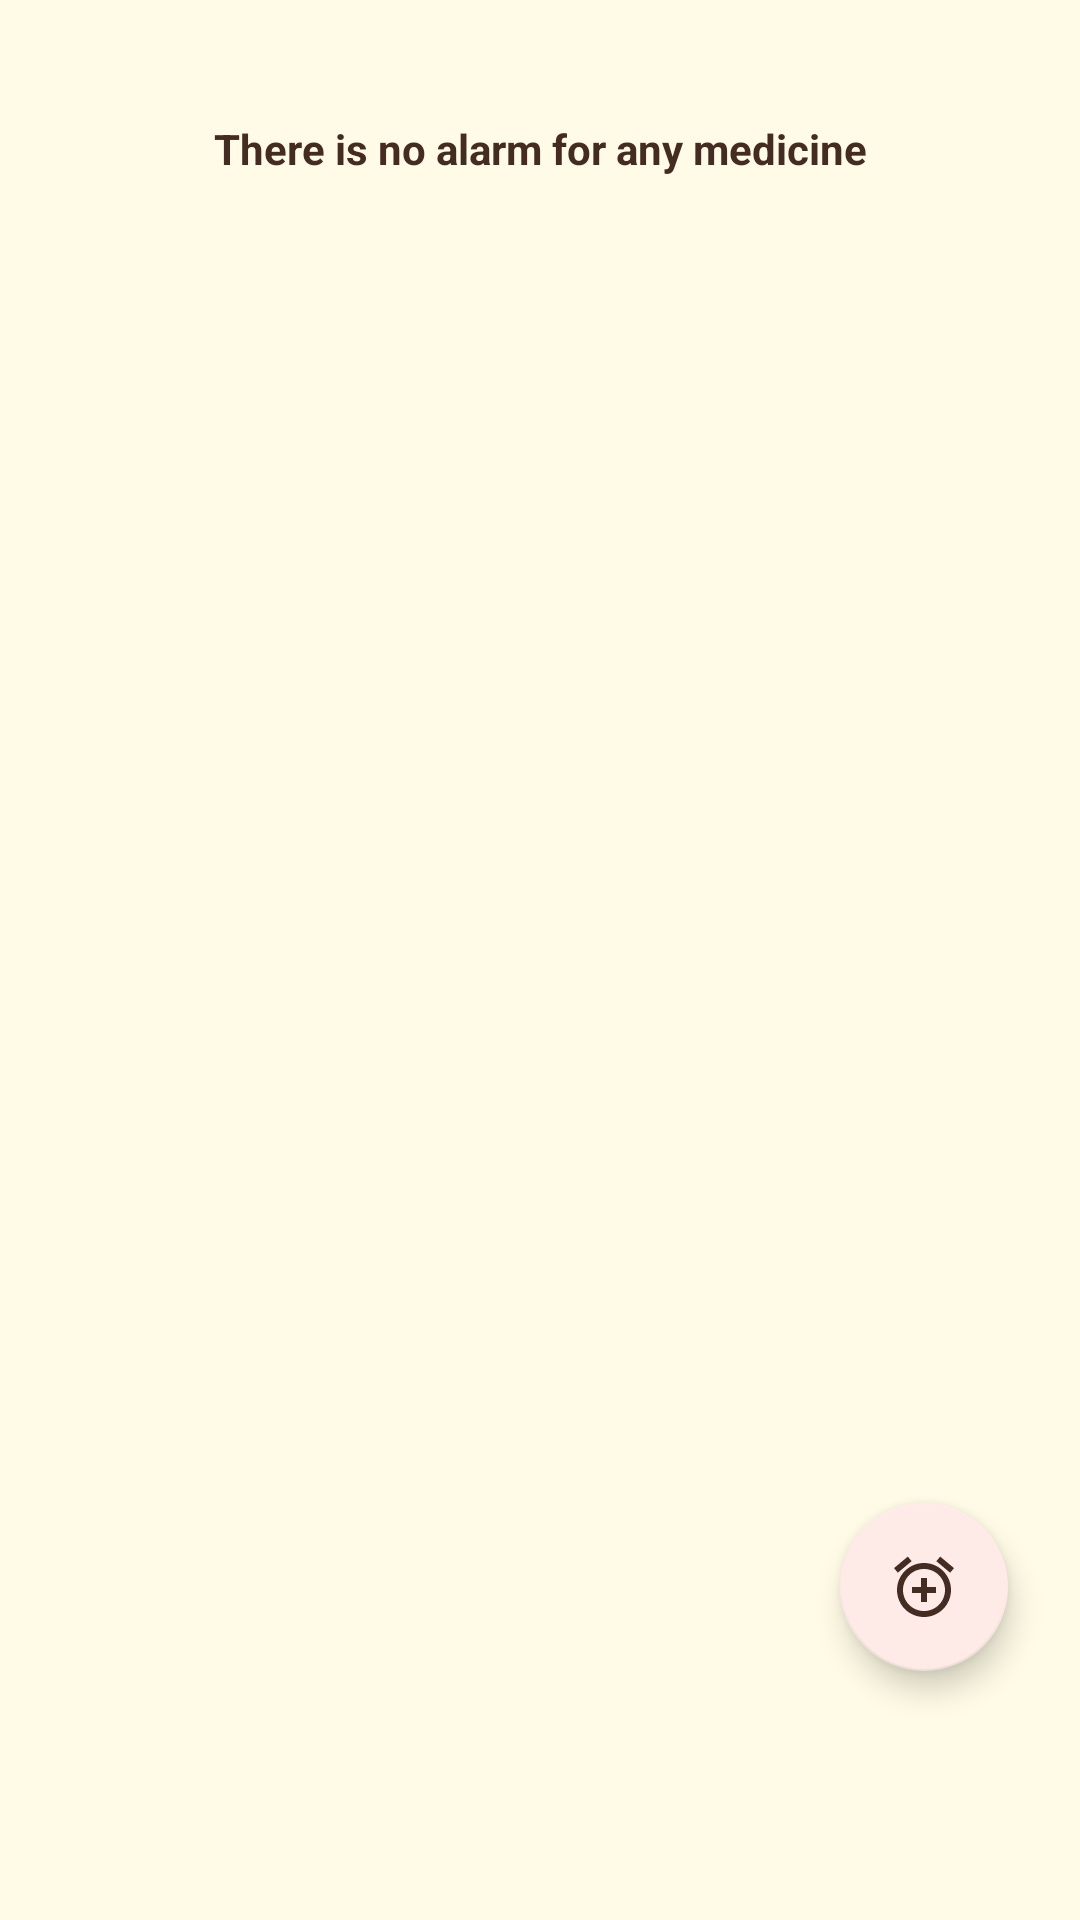

Where to tap for icons on this 1080×1920 app screen, as (x,y):
Add alarm for medicine: (924,1587)
